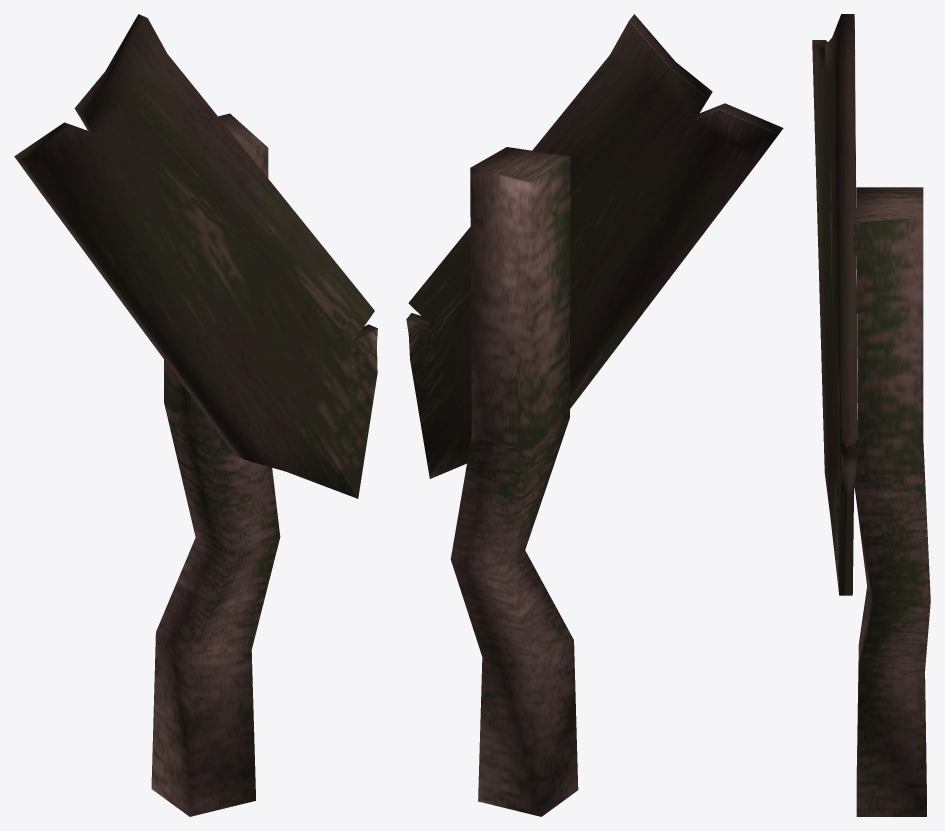
The model's file is downsign.fbx.
The picture shows the model from 3 angles, left to right: view 1: azimuth 30°, elevation 25°; view 2: azimuth 150°, elevation 25°; view 3: azimuth 270°, elevation 25°; orthographic projection. The views are drawn at different scales.
Visible parts, largest first — view 1: Sign; view 2: Sign; view 3: Sign.
Part boxes in pixels (<box>): Sign: <box>14,14,377,816</box>; Sign: <box>406,14,783,816</box>; Sign: <box>812,14,930,816</box>.
Size of the model in its own units: 159 by 332 by 47.52.
